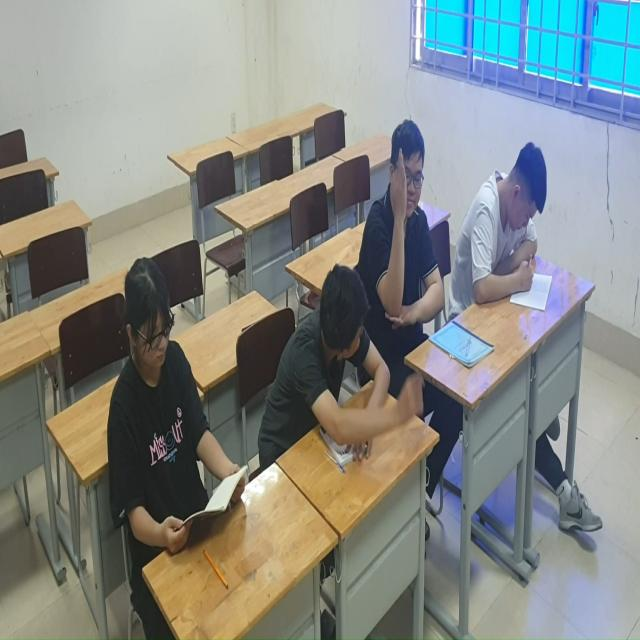raise_hand: (365, 113, 449, 353)
read: (91, 251, 260, 591), (455, 133, 558, 332)
